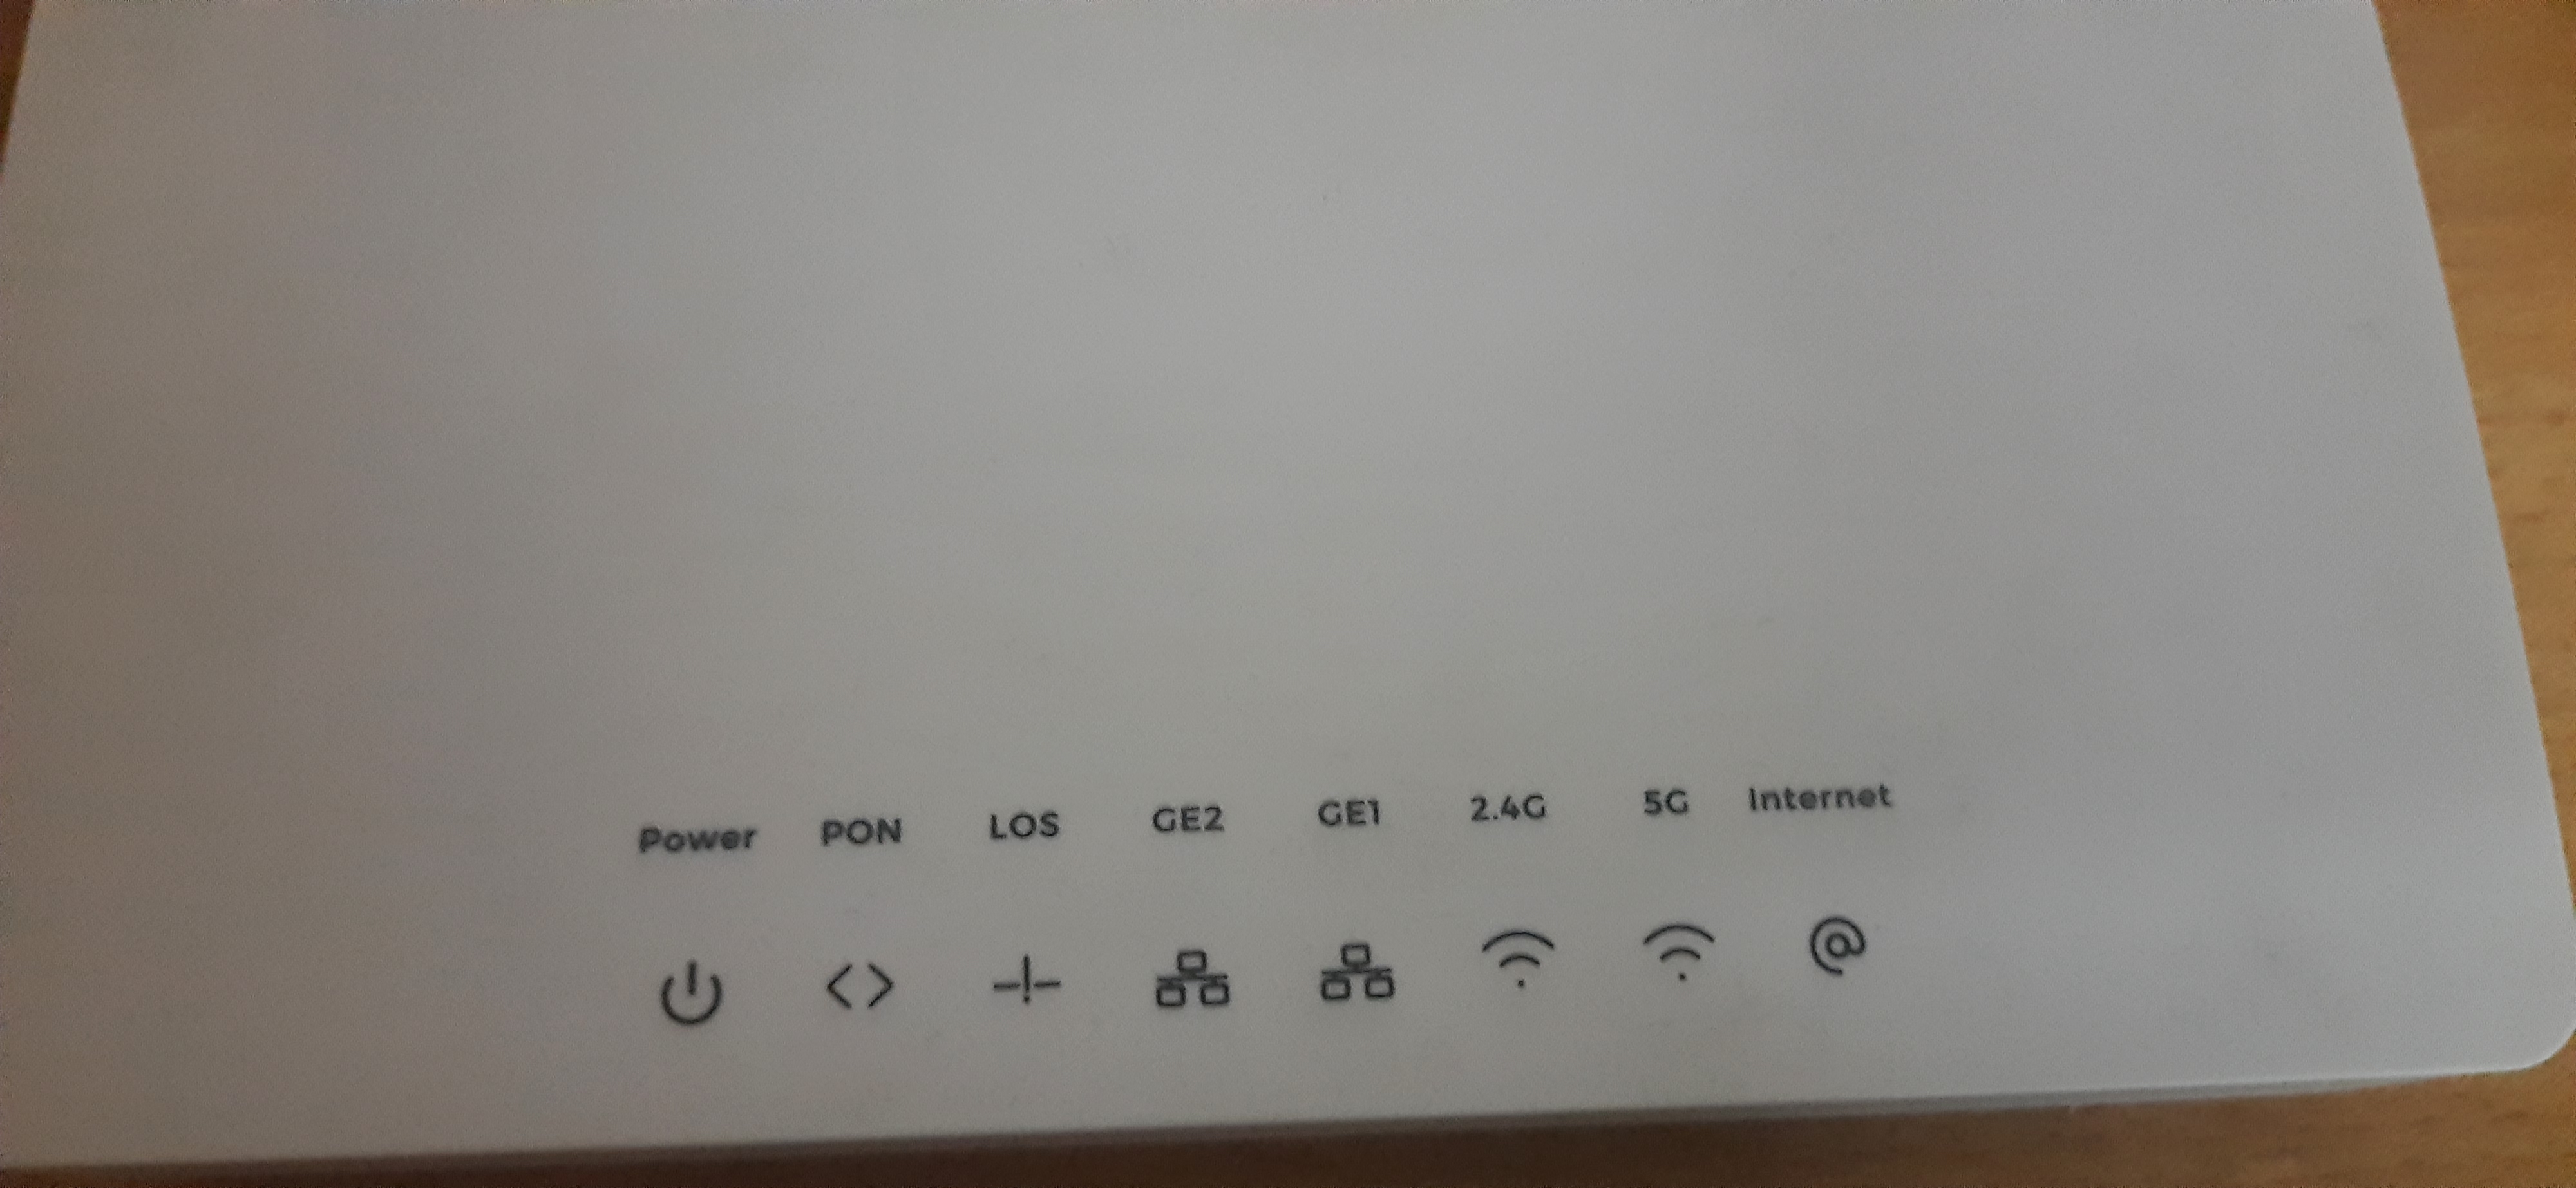WhiteWireIssue: (527, 741, 2019, 1058)
